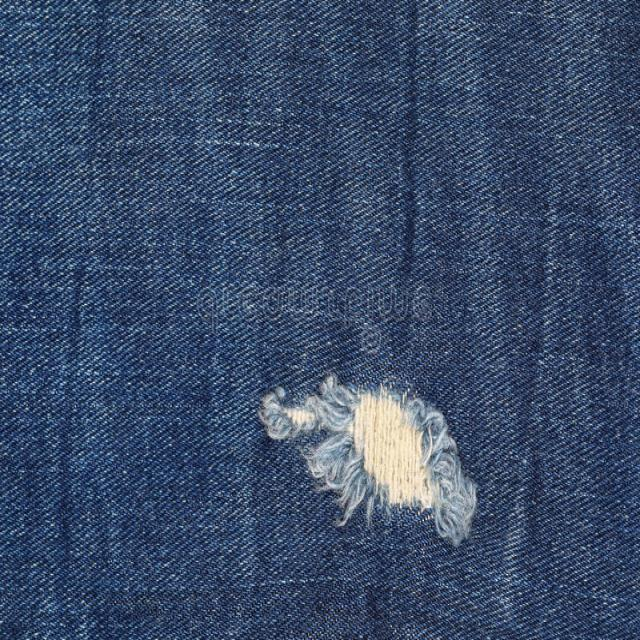Hole: (259, 376, 477, 546)
Line: (58, 0, 106, 579), (394, 0, 425, 322)
